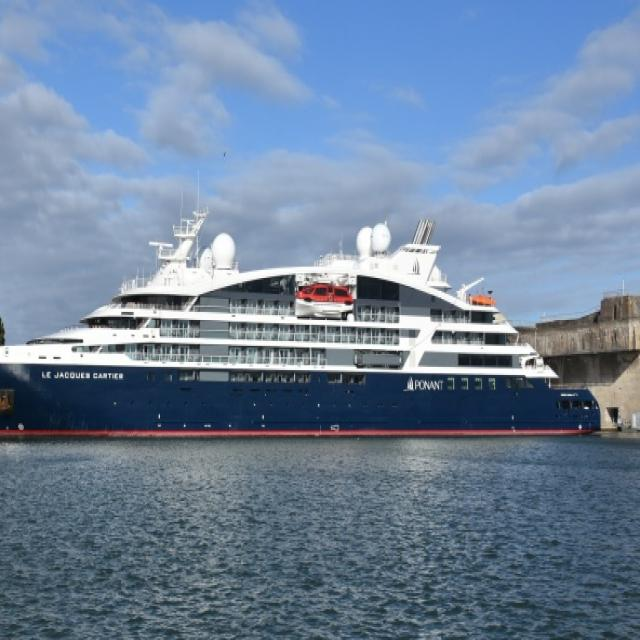cruises: (1, 208, 605, 449)
